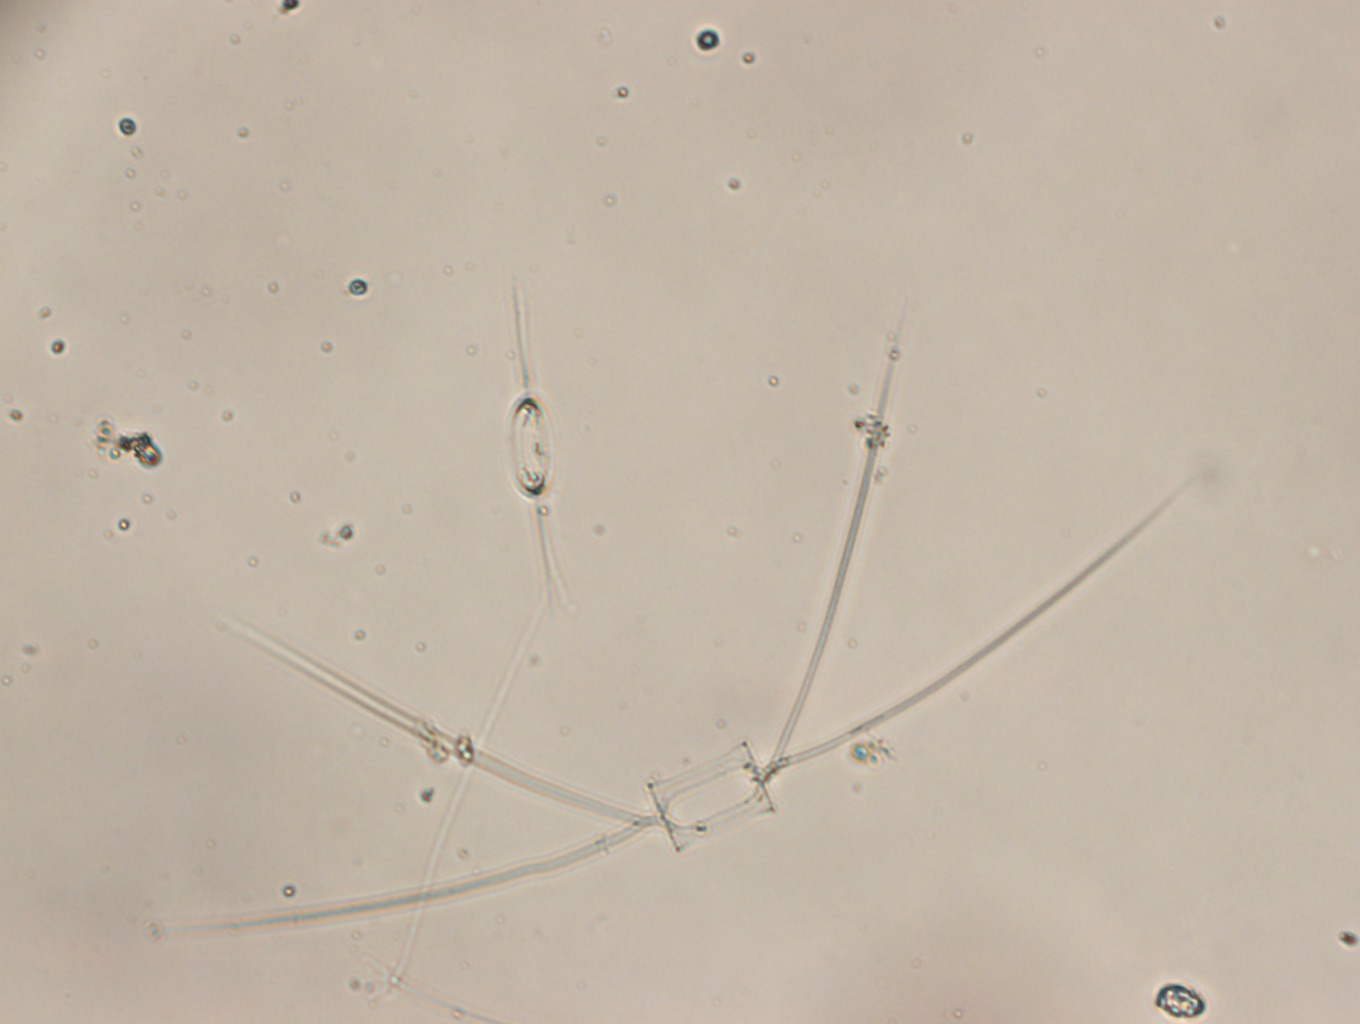chaetoceros: (177, 311, 1180, 939), (509, 286, 574, 624)
